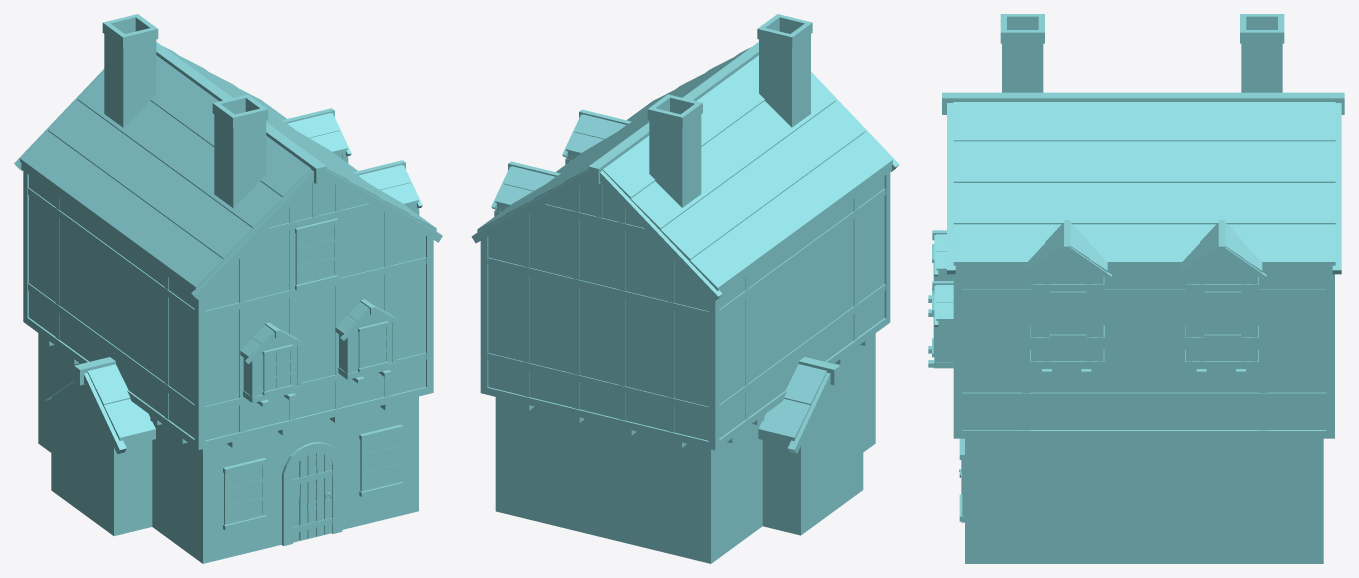
File: Mega_Asset_s_Pack_Cube_511.FBX
3 renders of one model, left to right at view 1: azimuth 30°, elevation 25°; view 2: azimuth 150°, elevation 25°; view 3: azimuth 270°, elevation 25°, orthographic. The views are drawn at different scales.
Visible parts, largest first — view 1: Mega_Asset_s_Pack_Cube_511; view 2: Mega_Asset_s_Pack_Cube_511; view 3: Mega_Asset_s_Pack_Cube_511.
Part boxes in pixels (x1=…): Mega_Asset_s_Pack_Cube_511: x1=14, y1=14, x2=442, y2=563; Mega_Asset_s_Pack_Cube_511: x1=471, y1=14, x2=899, y2=563; Mega_Asset_s_Pack_Cube_511: x1=928, y1=14, x2=1344, y2=563.
Size of what is drawn, in the model's own units: 1450 by 1623 by 1981.
